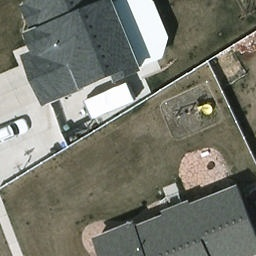camping car: (83, 85, 133, 119)
car: (0, 115, 31, 146)
